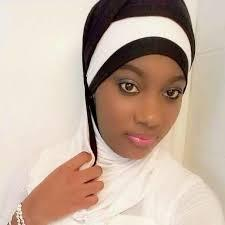No Mask: (89, 24, 194, 172)
